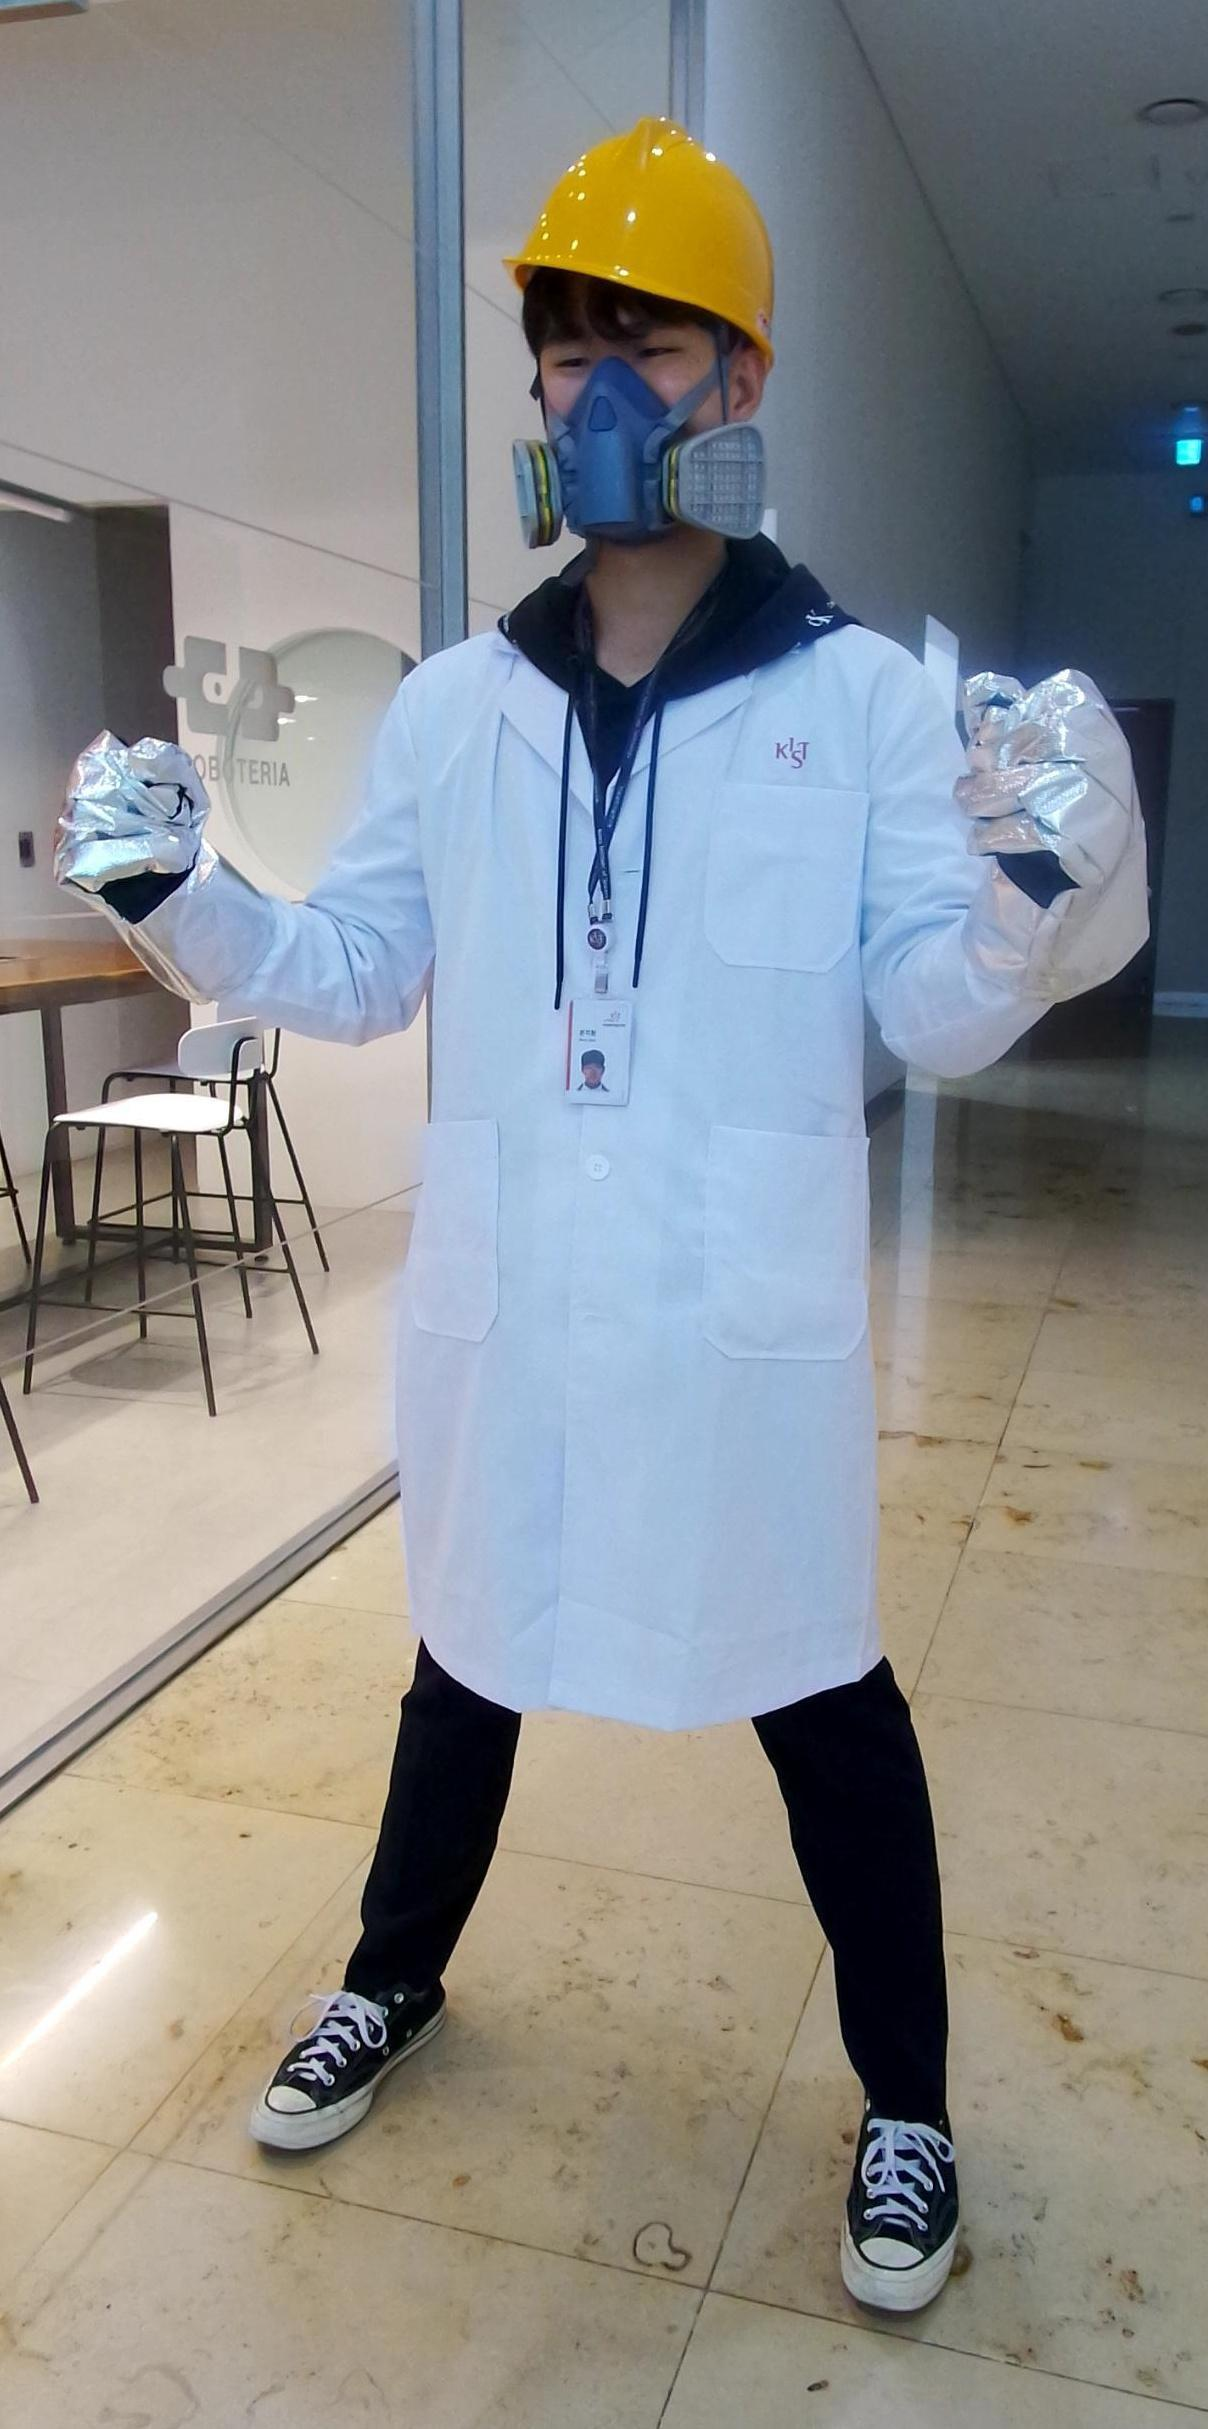lab_coat: (398, 666, 926, 1692)
